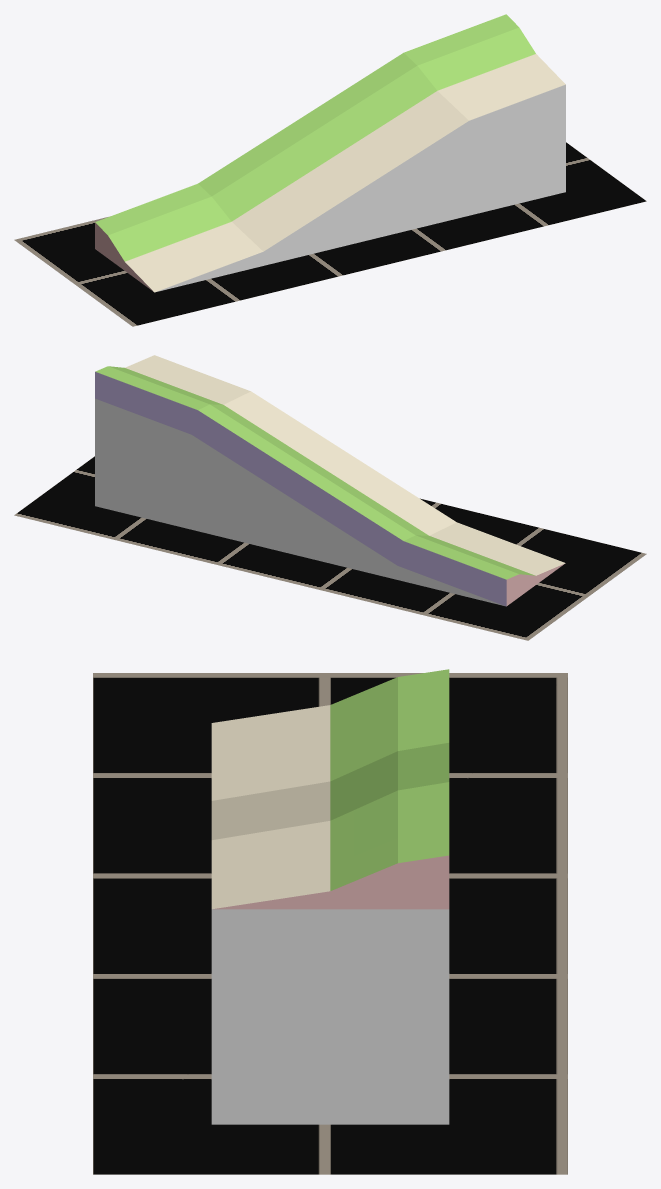
File: Path_Terrain_Incline_Gentle_Edge_1x4.glb
The picture shows the model from 3 angles, top to bottom: view 1: azimuth 30°, elevation 25°; view 2: azimuth 150°, elevation 25°; view 3: azimuth 270°, elevation 25°; orthographic projection. The views are drawn at different scales.
Visible parts, largest first — view 1: Path_Terrain_Incline_Gentle_Edge_1x4, Floor; view 2: Path_Terrain_Incline_Gentle_Edge_1x4, Floor; view 3: Floor, Path_Terrain_Incline_Gentle_Edge_1x4.
Boxes of the visible parts, box(x1,y1,x2,y2) form: Path_Terrain_Incline_Gentle_Edge_1x4: box(95, 14, 565, 292); Floor: box(14, 142, 646, 326); Path_Terrain_Incline_Gentle_Edge_1x4: box(95, 355, 565, 606); Floor: box(14, 456, 646, 640); Floor: box(93, 673, 567, 1174); Path_Terrain_Incline_Gentle_Edge_1x4: box(211, 669, 449, 1124).
Size of the model in its own units: 500 by 125 by 200.
Materials: 6 (1 with a texture image).
